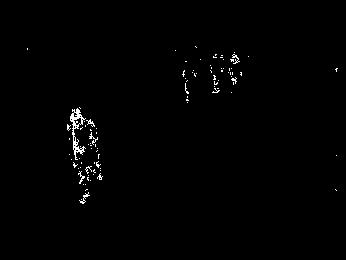person: (67, 105, 104, 208)
